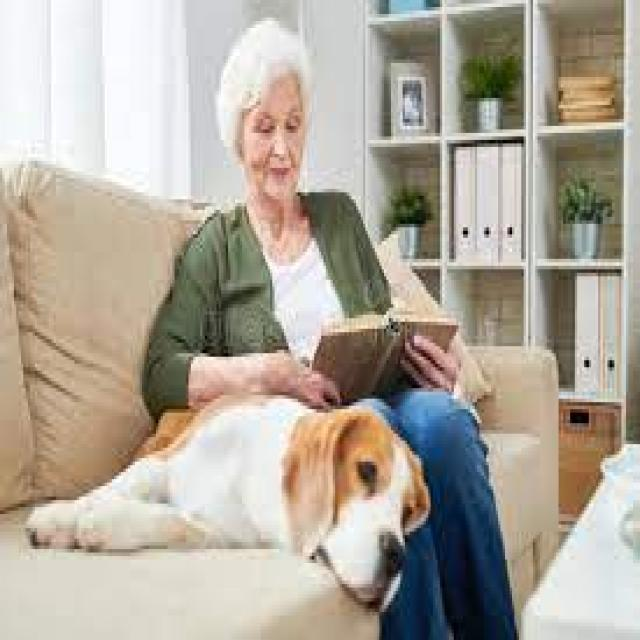Dog: (23, 392, 432, 615)
